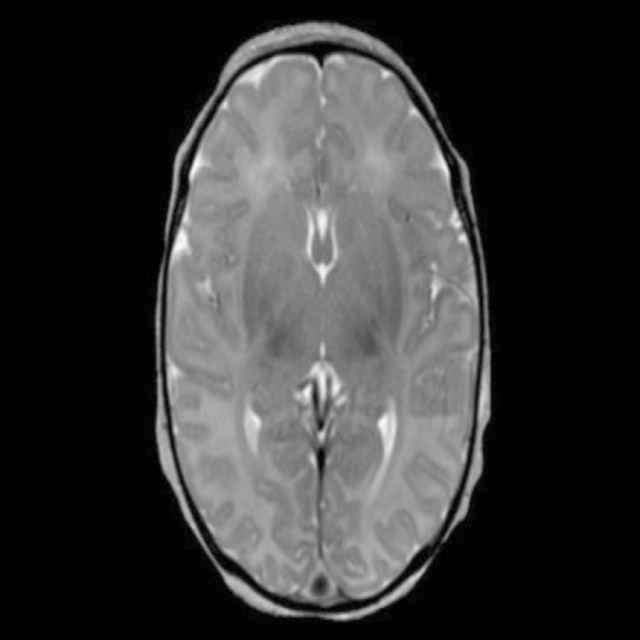glioma tumor: (213, 69, 427, 569)
